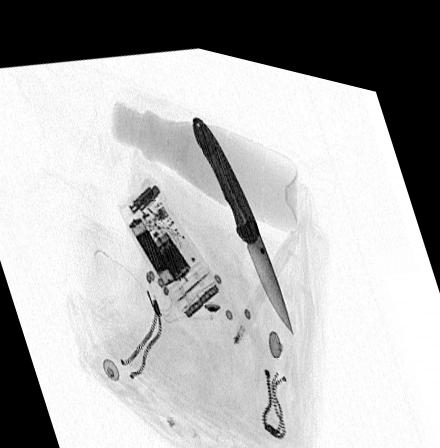Knife: (191, 104, 295, 322)
